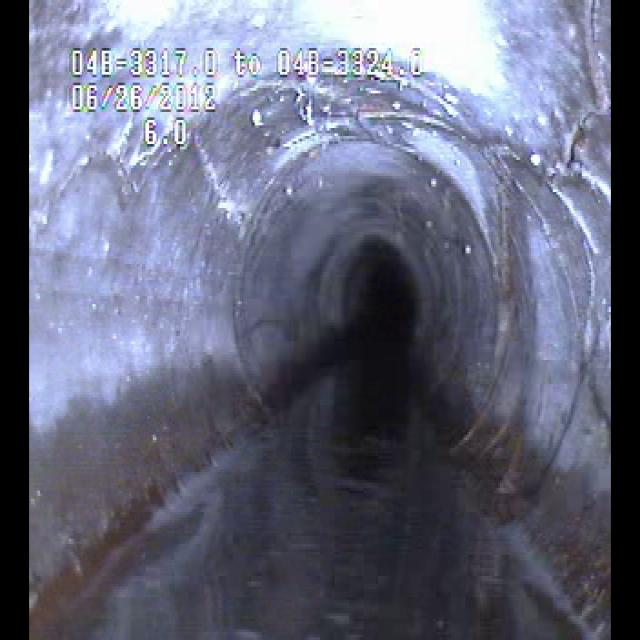Fracture: (496, 34, 604, 255)
